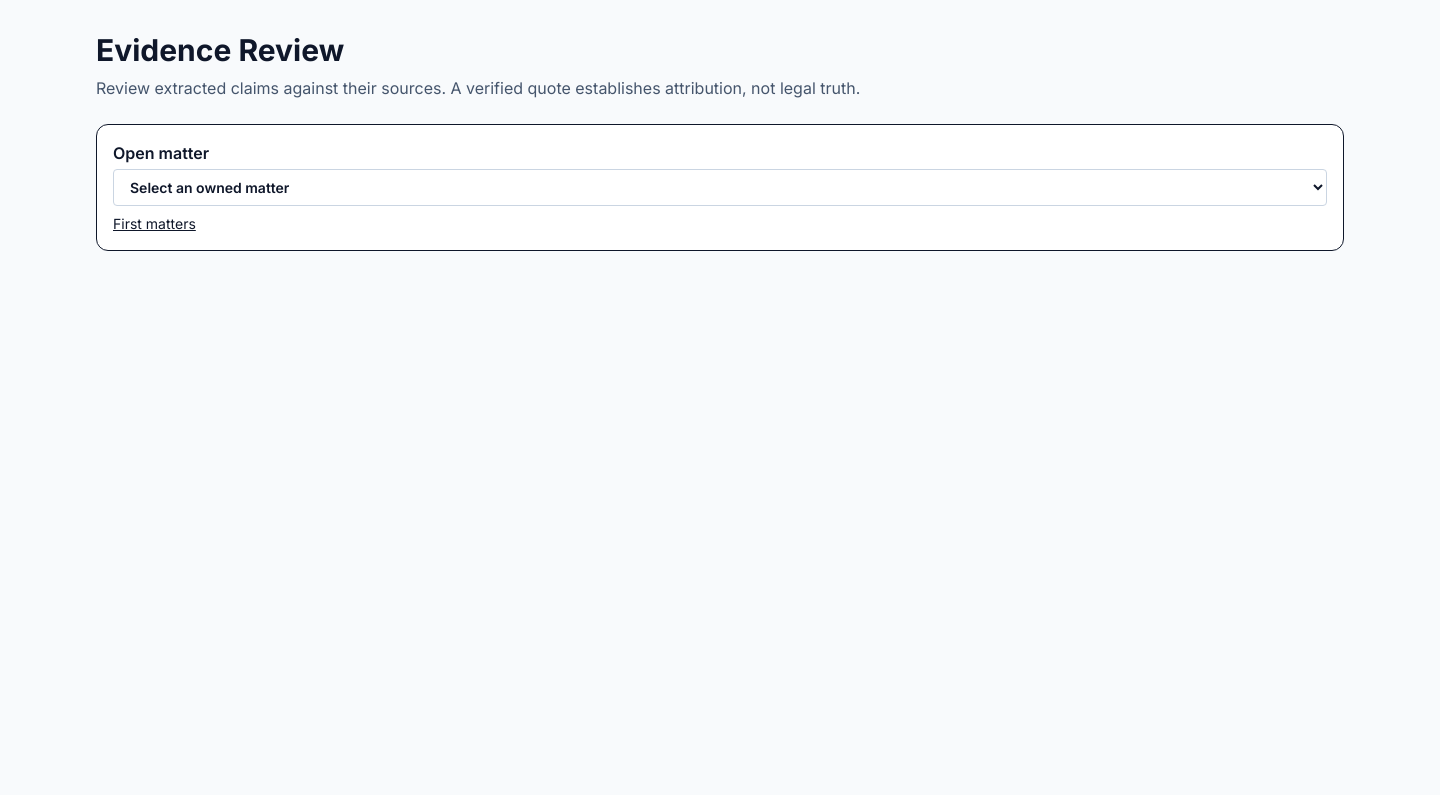
Test: Stage 10 slice 5: AccessHistoryPanel inside EvidenceReviewWorkspace › renders a reviewer-scoped (SELF) page exactly as returned
Select "Matter A" in the dropdown labelled "Open matter". click: coordinates (720, 188)
box: x1=113 y1=169 x2=1327 y2=206
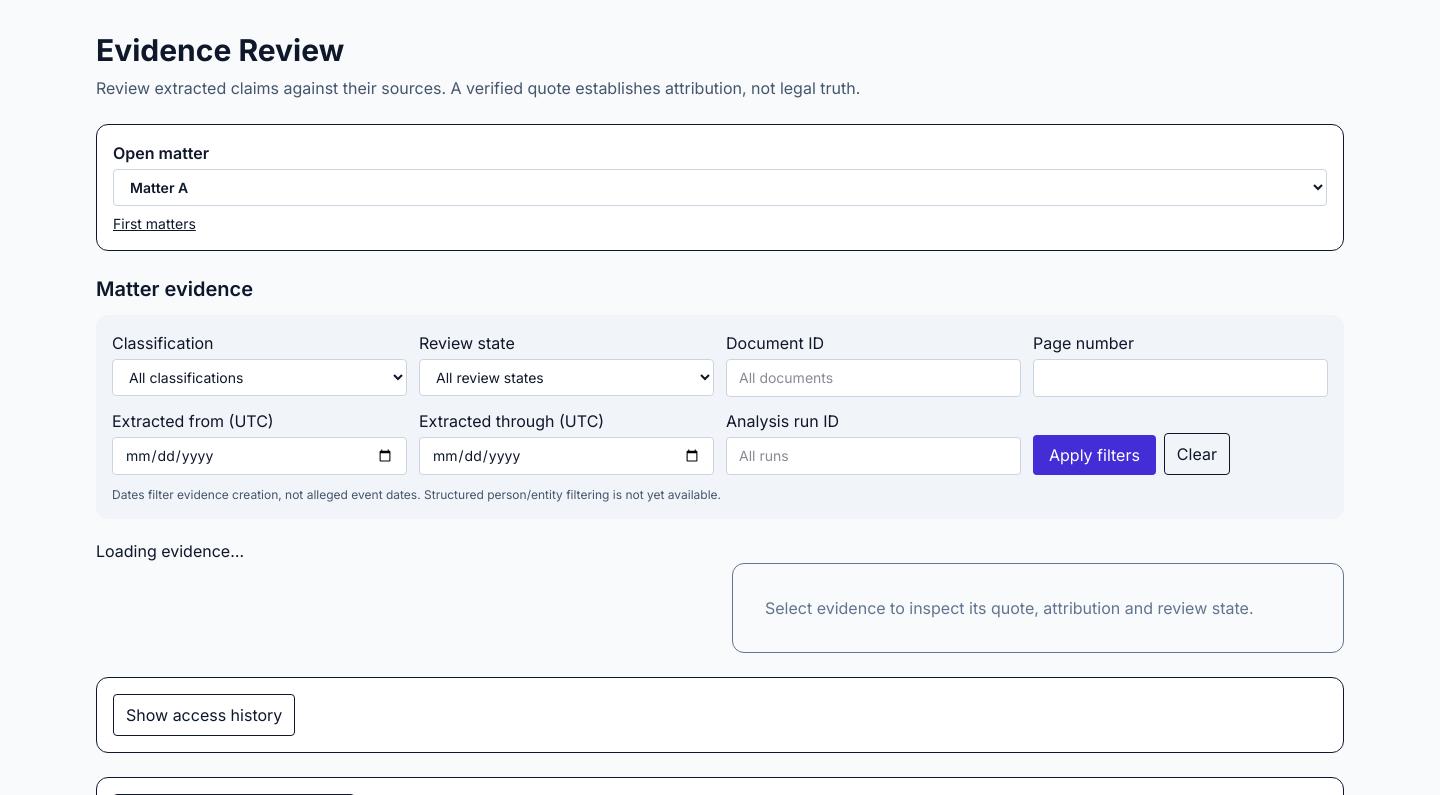
Click the button "Show access history". click: coordinates (204, 715)
box: x1=113 y1=694 x2=295 y2=736
(page scrolled)
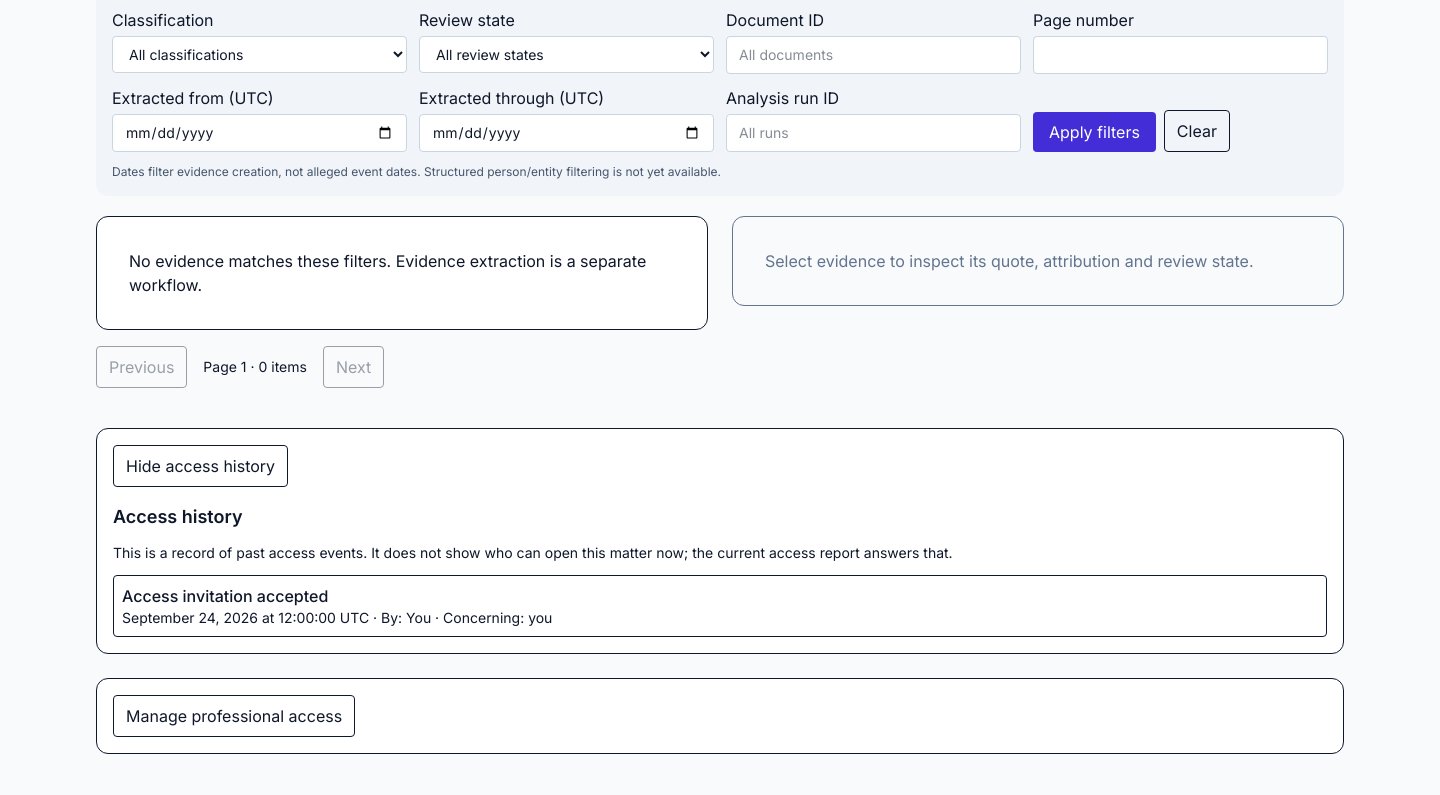
expect the number of list items with test id "access-history-entry" is 1: met, box x1=113 y1=575 x2=1327 y2=637
expect the list item with test id "access-history-entry" shows "By: You": met, box x1=113 y1=575 x2=1327 y2=637
